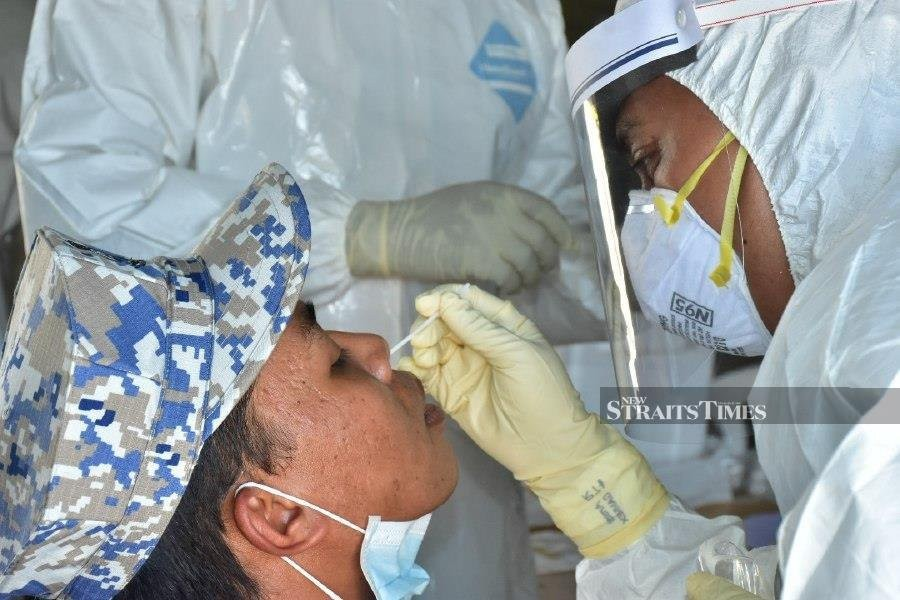Face_Shield: (552, 1, 747, 377)
Gloves: (403, 273, 677, 568), (340, 165, 593, 305)
mask_weared_incorrect: (273, 295, 457, 600)
with_mask: (616, 132, 776, 374)
